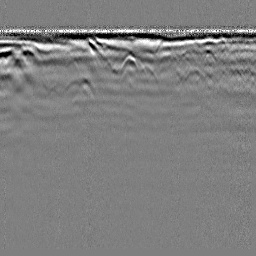cavity: (120, 50, 139, 73)
